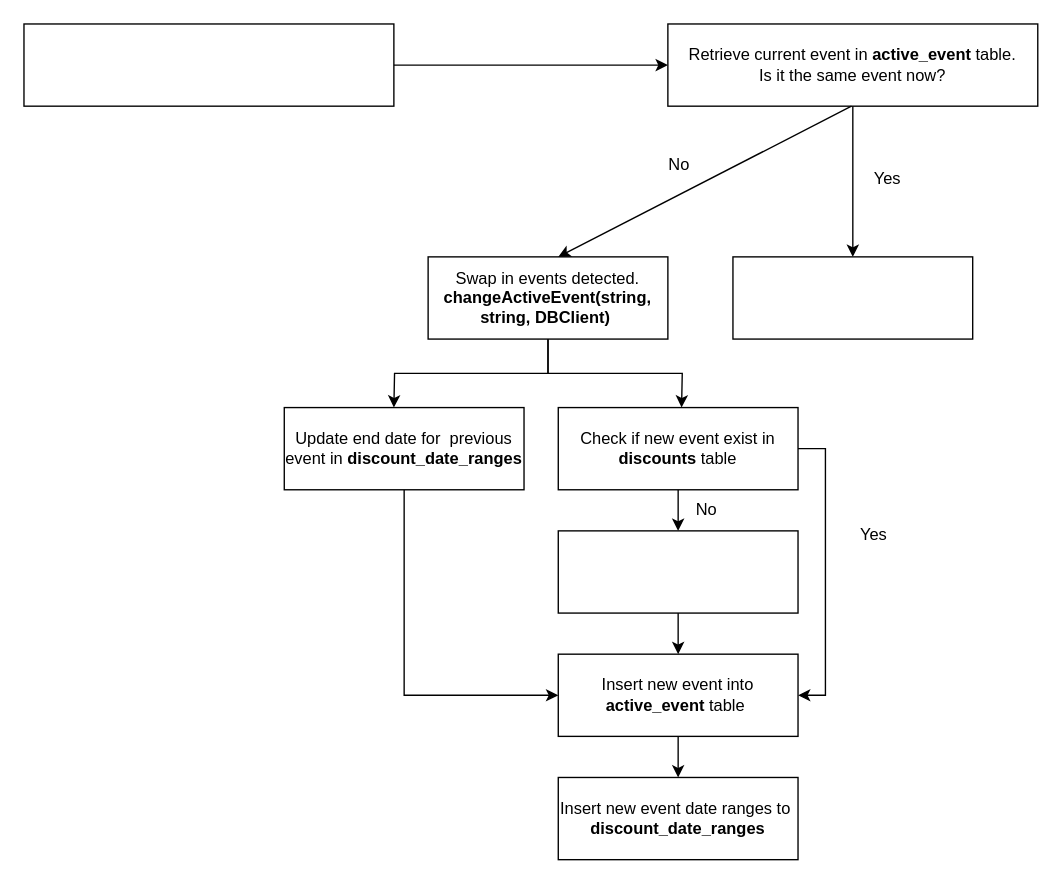
Image size: 1062x884. Some labels were removed from this diagram. The centre of each missing label's shape, as x and y in pixels:
"CRON JOB cheerioScrapeDiscountDetails(string)" goes at (208,64).
"Do nothing, do not insert this to the database" goes at (852,297).
"Insert event into discounts table" goes at (677,571).
